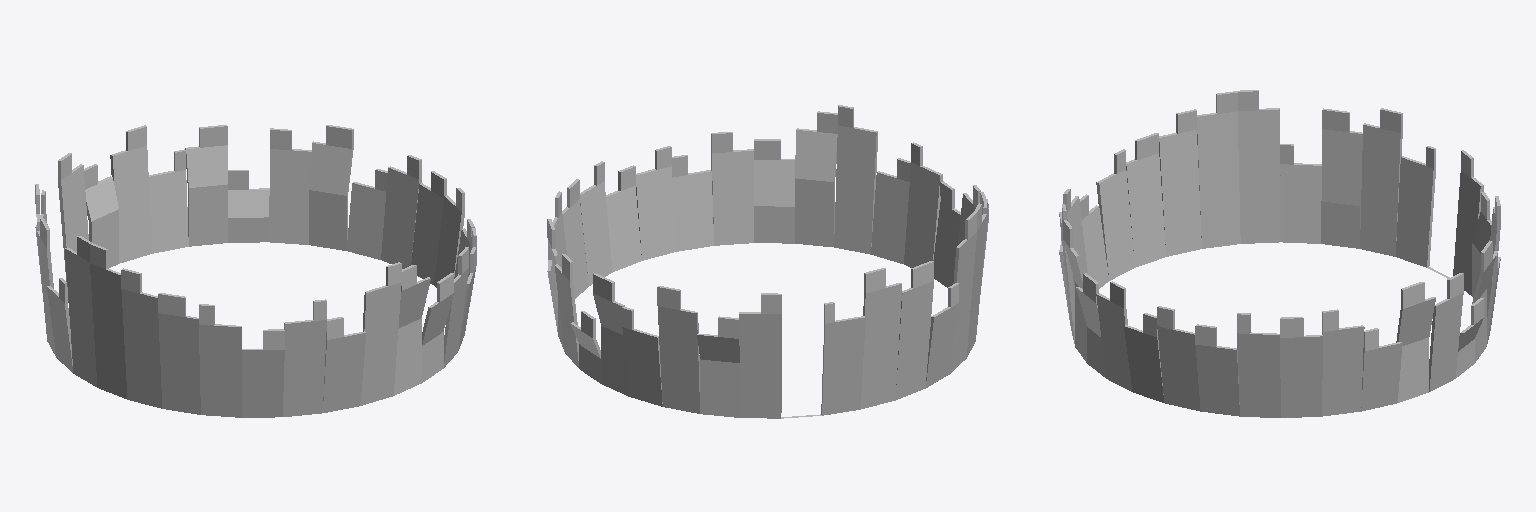
The model's file is enclosure.obj.
The picture shows the model from 3 angles: view 1: azimuth 30°, elevation 25°; view 2: azimuth 150°, elevation 25°; view 3: azimuth 270°, elevation 25°; orthographic projection.
Parts seen in each view (by area): view 1: Circle; view 2: Circle; view 3: Circle.
Boxes of the visible parts, box(x1,y1,x2,y2) form: Circle: box(35, 125, 476, 417); Circle: box(547, 105, 988, 418); Circle: box(1059, 90, 1500, 417).
Bounding box in the file's own units: 205 × 75.51 × 205.